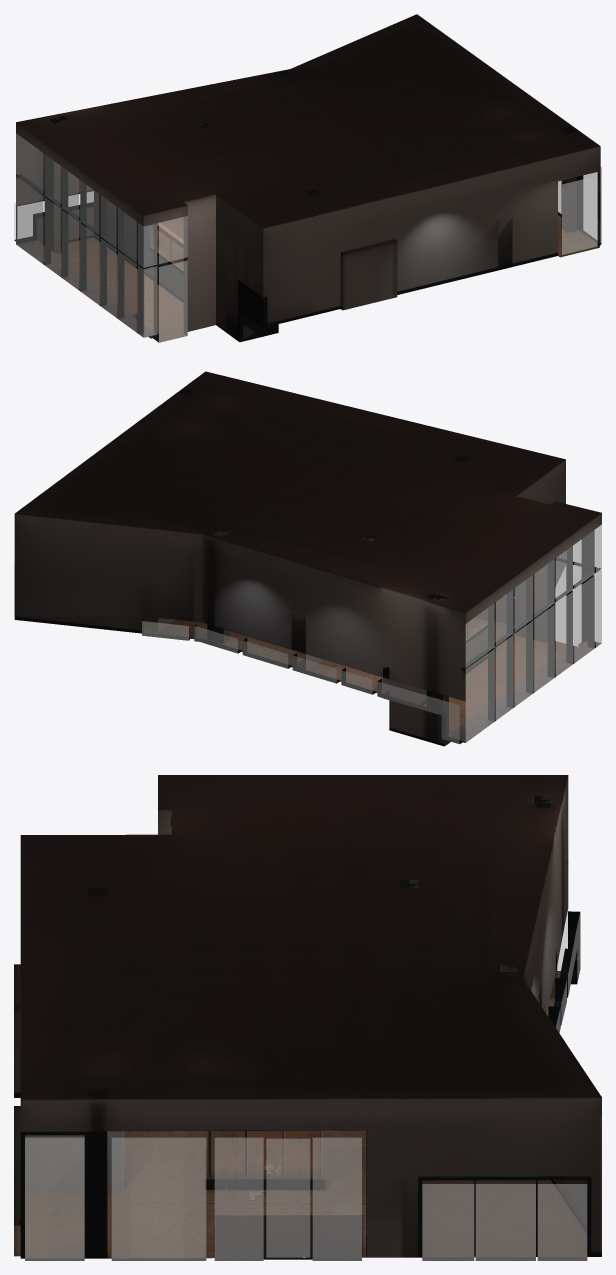
File: exhibition_space_2.glb
3 views of the same model, one above another, from view 1: azimuth 30°, elevation 25°; view 2: azimuth 150°, elevation 25°; view 3: azimuth 270°, elevation 25° (orthographic). The views are drawn at different scales.
Parts seen in each view (by area): view 1: exhibition_exterior_geo, glass_geo, exhibition_interior_geo; view 2: exhibition_exterior_geo, glass_geo, exhibition_interior_geo, pCylinder5; view 3: exhibition_exterior_geo, glass_geo, exhibition_interior_geo, polySurface43, pCylinder5.
Part boxes in pixels (<box>): exhibition_exterior_geo: <box>16,14,600,342</box>; glass_geo: <box>14,133,601,342</box>; exhibition_interior_geo: <box>14,71,601,342</box>; exhibition_exterior_geo: <box>14,371,601,746</box>; glass_geo: <box>14,524,601,743</box>; exhibition_interior_geo: <box>142,530,601,746</box>; pCylinder5: <box>142,616,324,670</box>; exhibition_exterior_geo: <box>14,775,601,1258</box>; glass_geo: <box>25,909,587,1260</box>; exhibition_interior_geo: <box>14,803,587,1260</box>; polySurface43: <box>205,1130,325,1200</box>; pCylinder5: <box>25,988,539,1189</box>.
Size of the model in its own units: 20 by 6 by 15.23.
7 materials, 5 textured.
